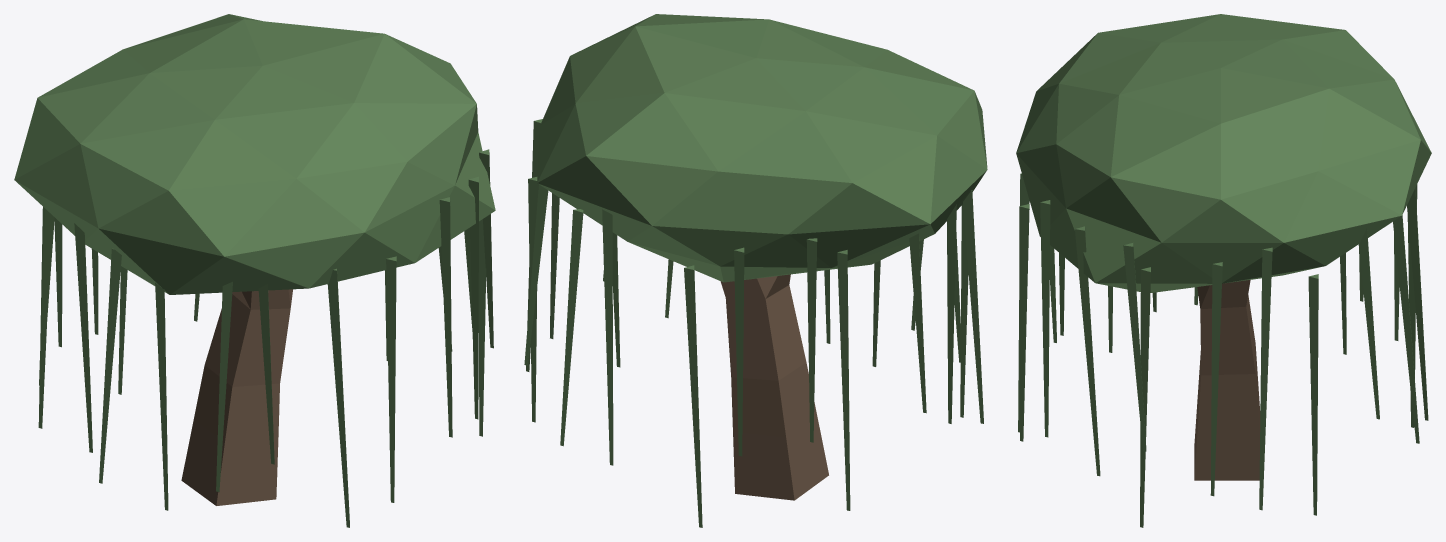
File: tree_willow.glb
The picture shows the model from 3 angles, left to right: view 1: azimuth 30°, elevation 25°; view 2: azimuth 150°, elevation 25°; view 3: azimuth 270°, elevation 25°; orthographic projection. The views are drawn at different scales.
Visible parts, largest first — view 1: tree_willow; view 2: tree_willow; view 3: tree_willow.
Part boxes in pixels (<box>): tree_willow: <box>14,14,495,527</box>; tree_willow: <box>524,14,987,527</box>; tree_willow: <box>1016,14,1431,527</box>.
Bounding box in the file's own units: 6.3 × 6.06 × 5.5.
